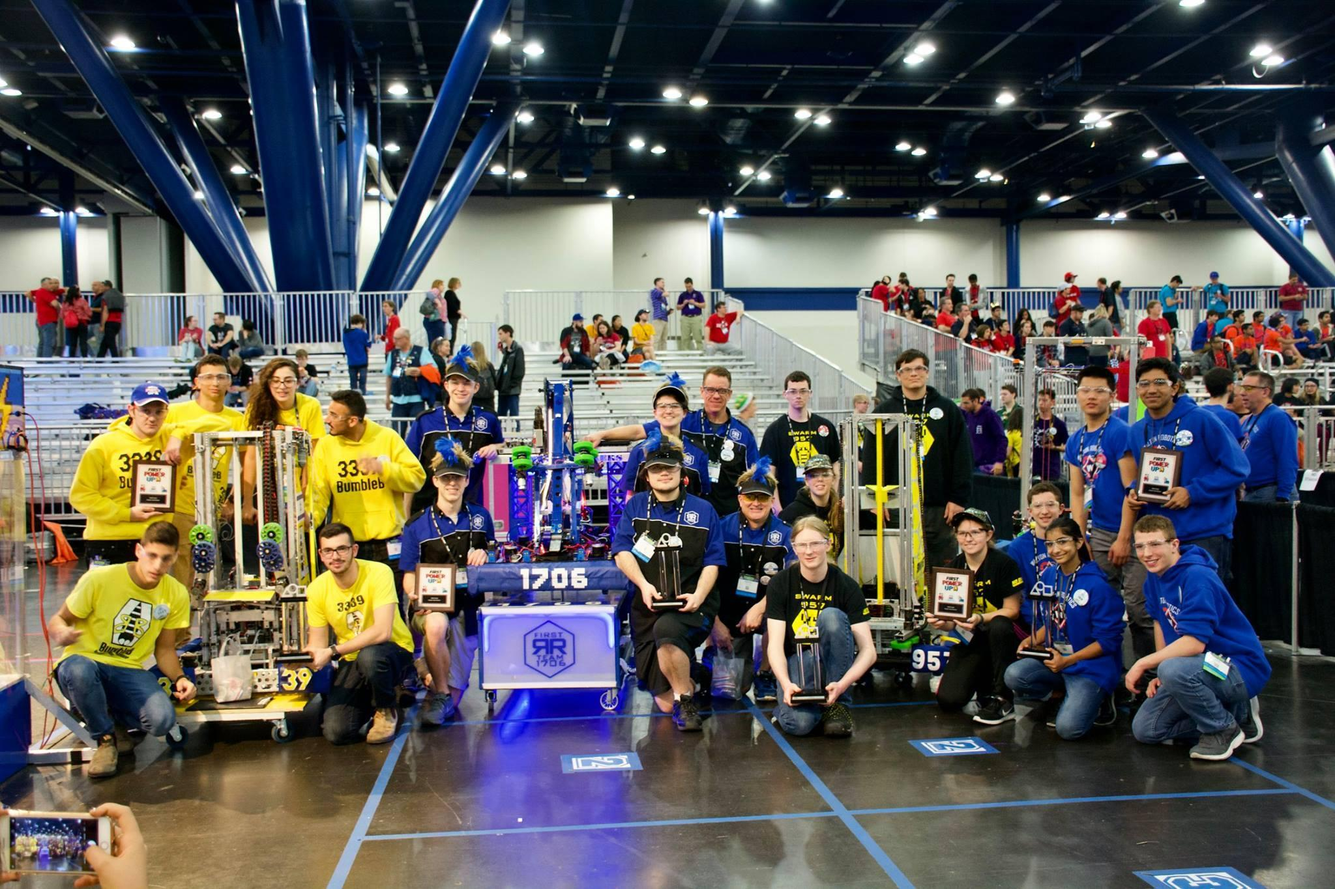robot: (160, 422, 330, 701), (807, 410, 973, 684), (451, 376, 644, 597)
